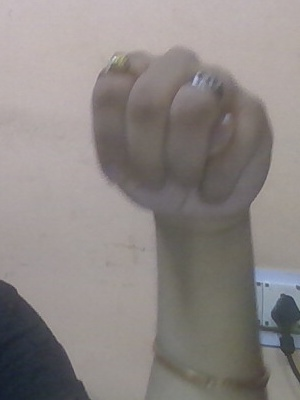M: (81, 31, 290, 259)
